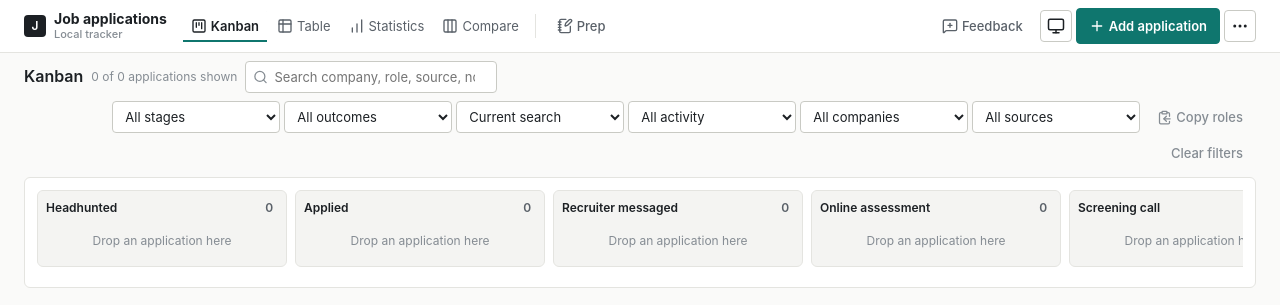
Test: starts with an empty live tracker and does not offer demo reset
Check: the text "0 of 0 applications shown" is shown, box [91,68,237,86]
Step 1. Click the button named "More actions" → (1240,26), box [1224,10,1256,42]
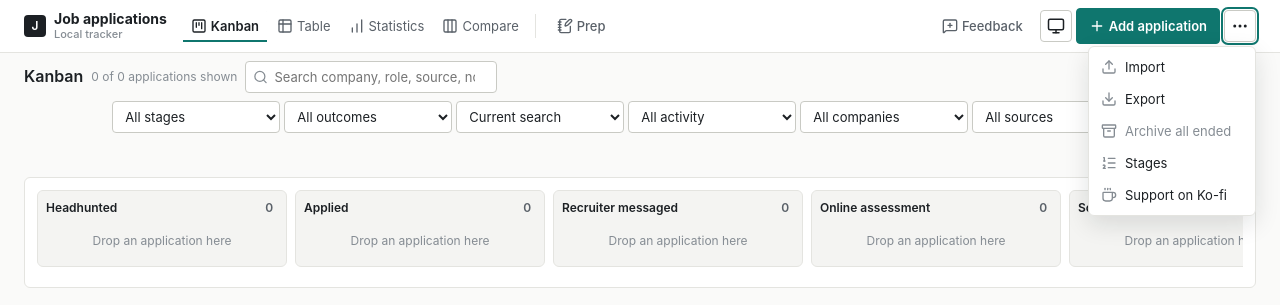
Check: the button "Import" is shown, box [1093,51,1251,83]
Check: the button "Export" is shown, box [1093,83,1251,115]
